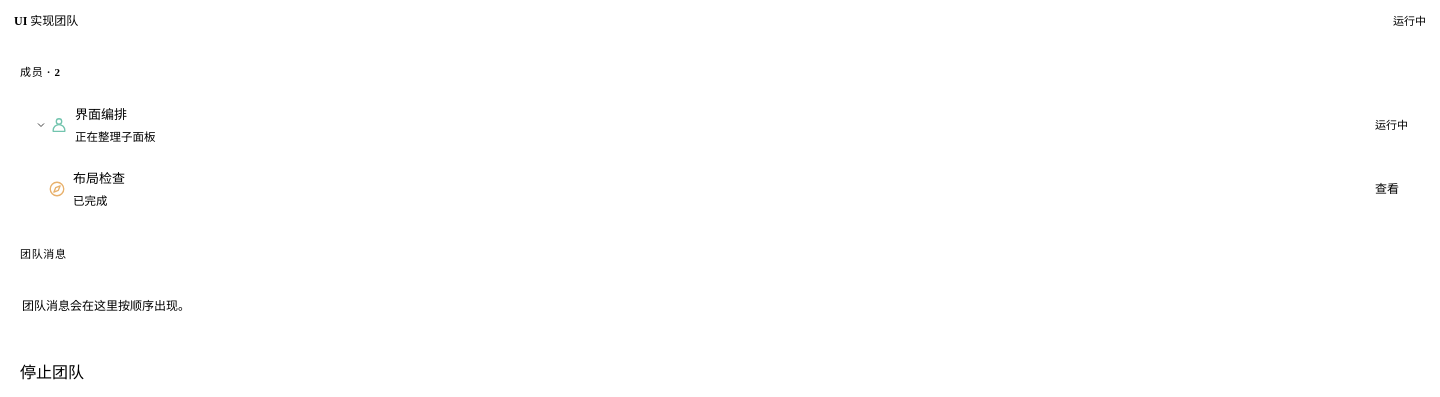
Test: prototype-aligned agent panels › preserves tree expansion independently of opening a member and blocks unavailable stop actions
The image size is (1440, 397).
Click the button named "折叠子树": (41, 125) [32,92,50,157]
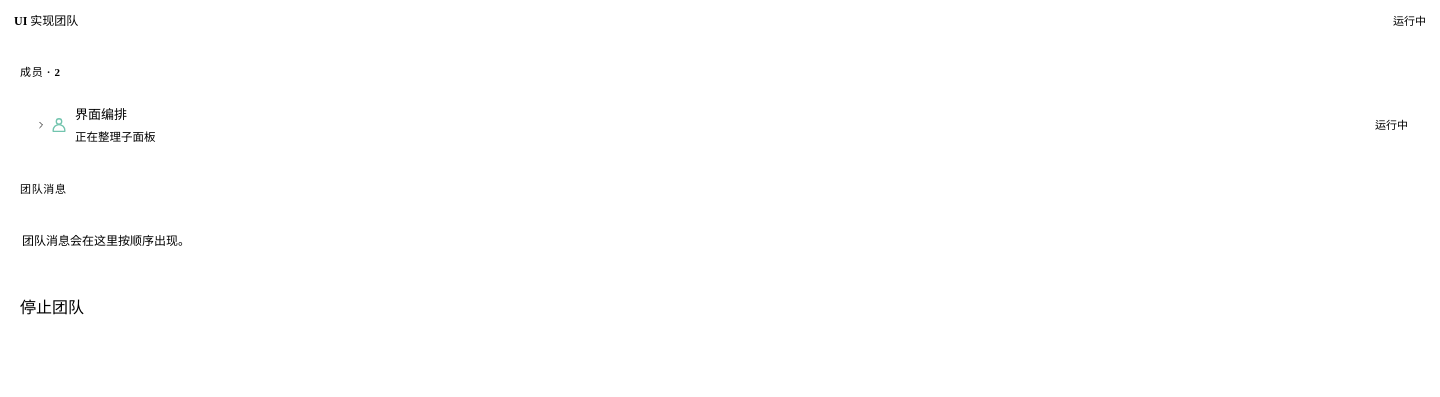
expect the button named "停止团队" is disabled: met, box [20,299,84,317]
expect the button "布局检查 已完成 查看" is gone: met
